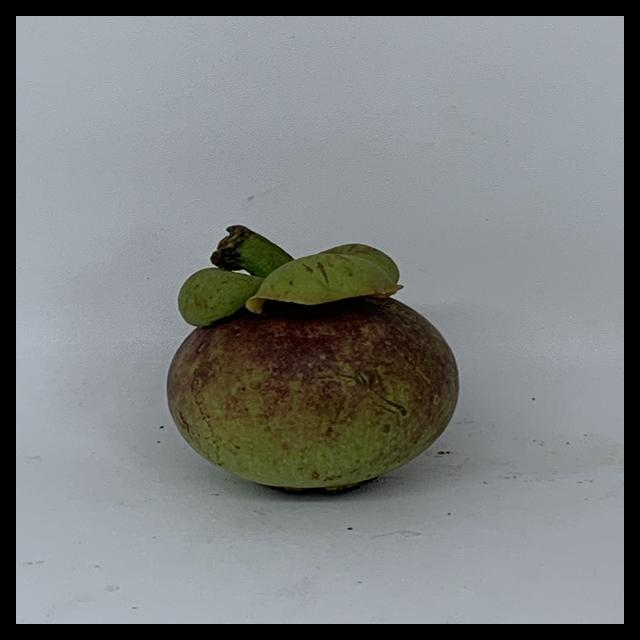mangosteen: (158, 219, 486, 503)
